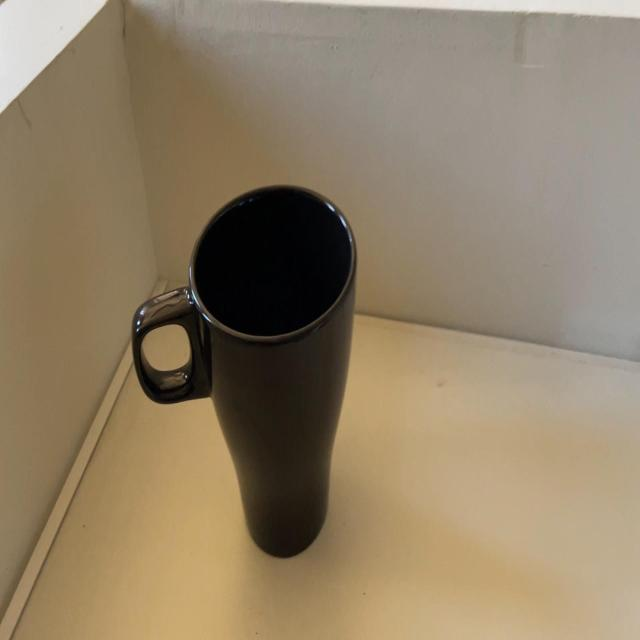cup: (128, 180, 364, 563)
